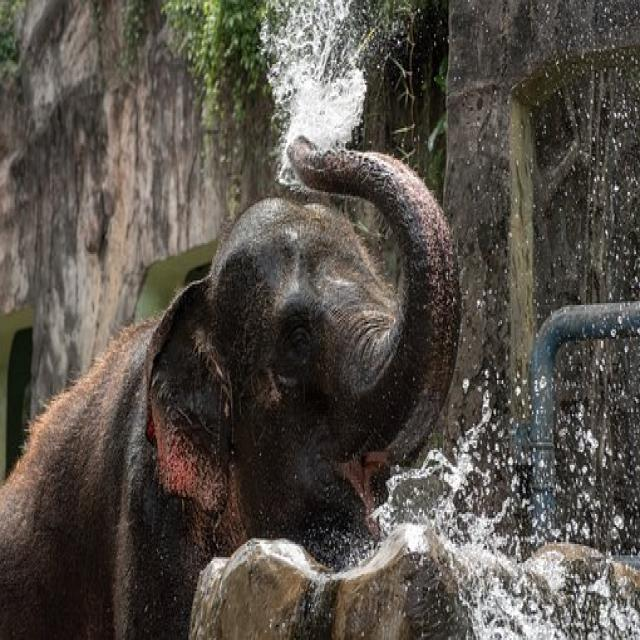Elephant: (19, 122, 472, 634)
